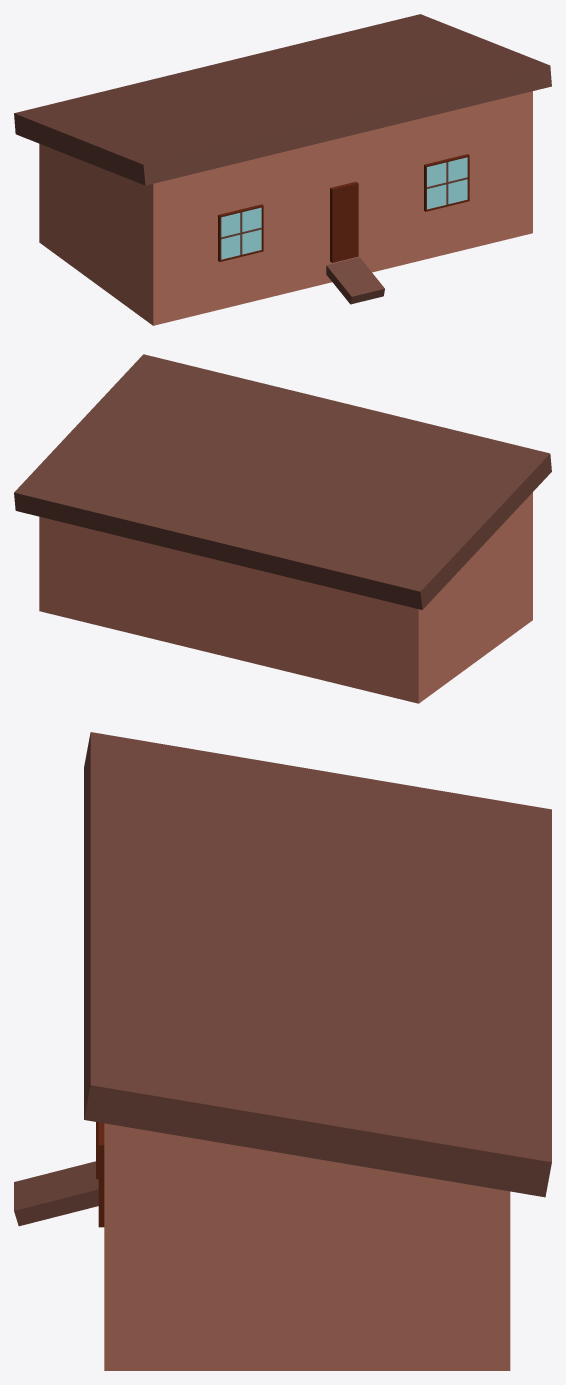
Rendered from house1.fbx.
3 views of the same model, one above another, from view 1: azimuth 30°, elevation 25°; view 2: azimuth 150°, elevation 25°; view 3: azimuth 270°, elevation 25° (orthographic). The views are drawn at different scales.
Visible parts, largest first — view 1: House 1; view 2: House 1; view 3: House 1.
Boxes of the visible parts, x1=… form: House 1: x1=14, y1=14, x2=551, y2=325; House 1: x1=14, y1=354, x2=551, y2=703; House 1: x1=14, y1=732, x2=551, y2=1370.
Size of the model in its own units: 1283 by 514 by 826.
